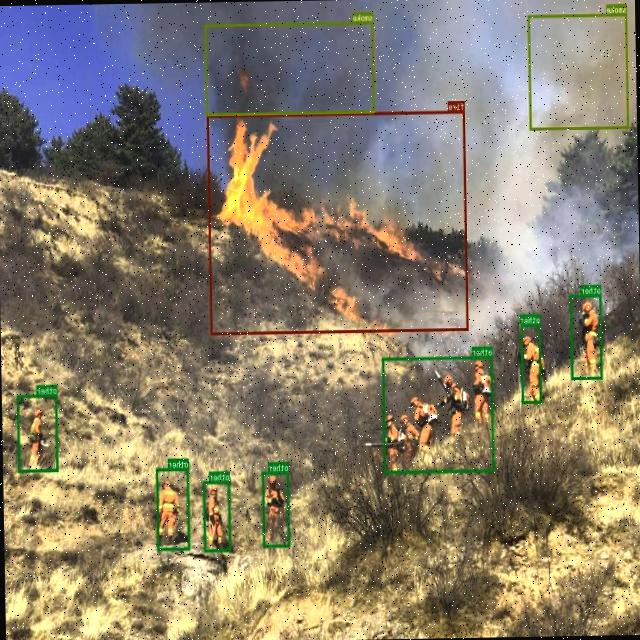fire: (207, 109, 469, 334)
smoke: (204, 20, 375, 115), (528, 12, 628, 130)
